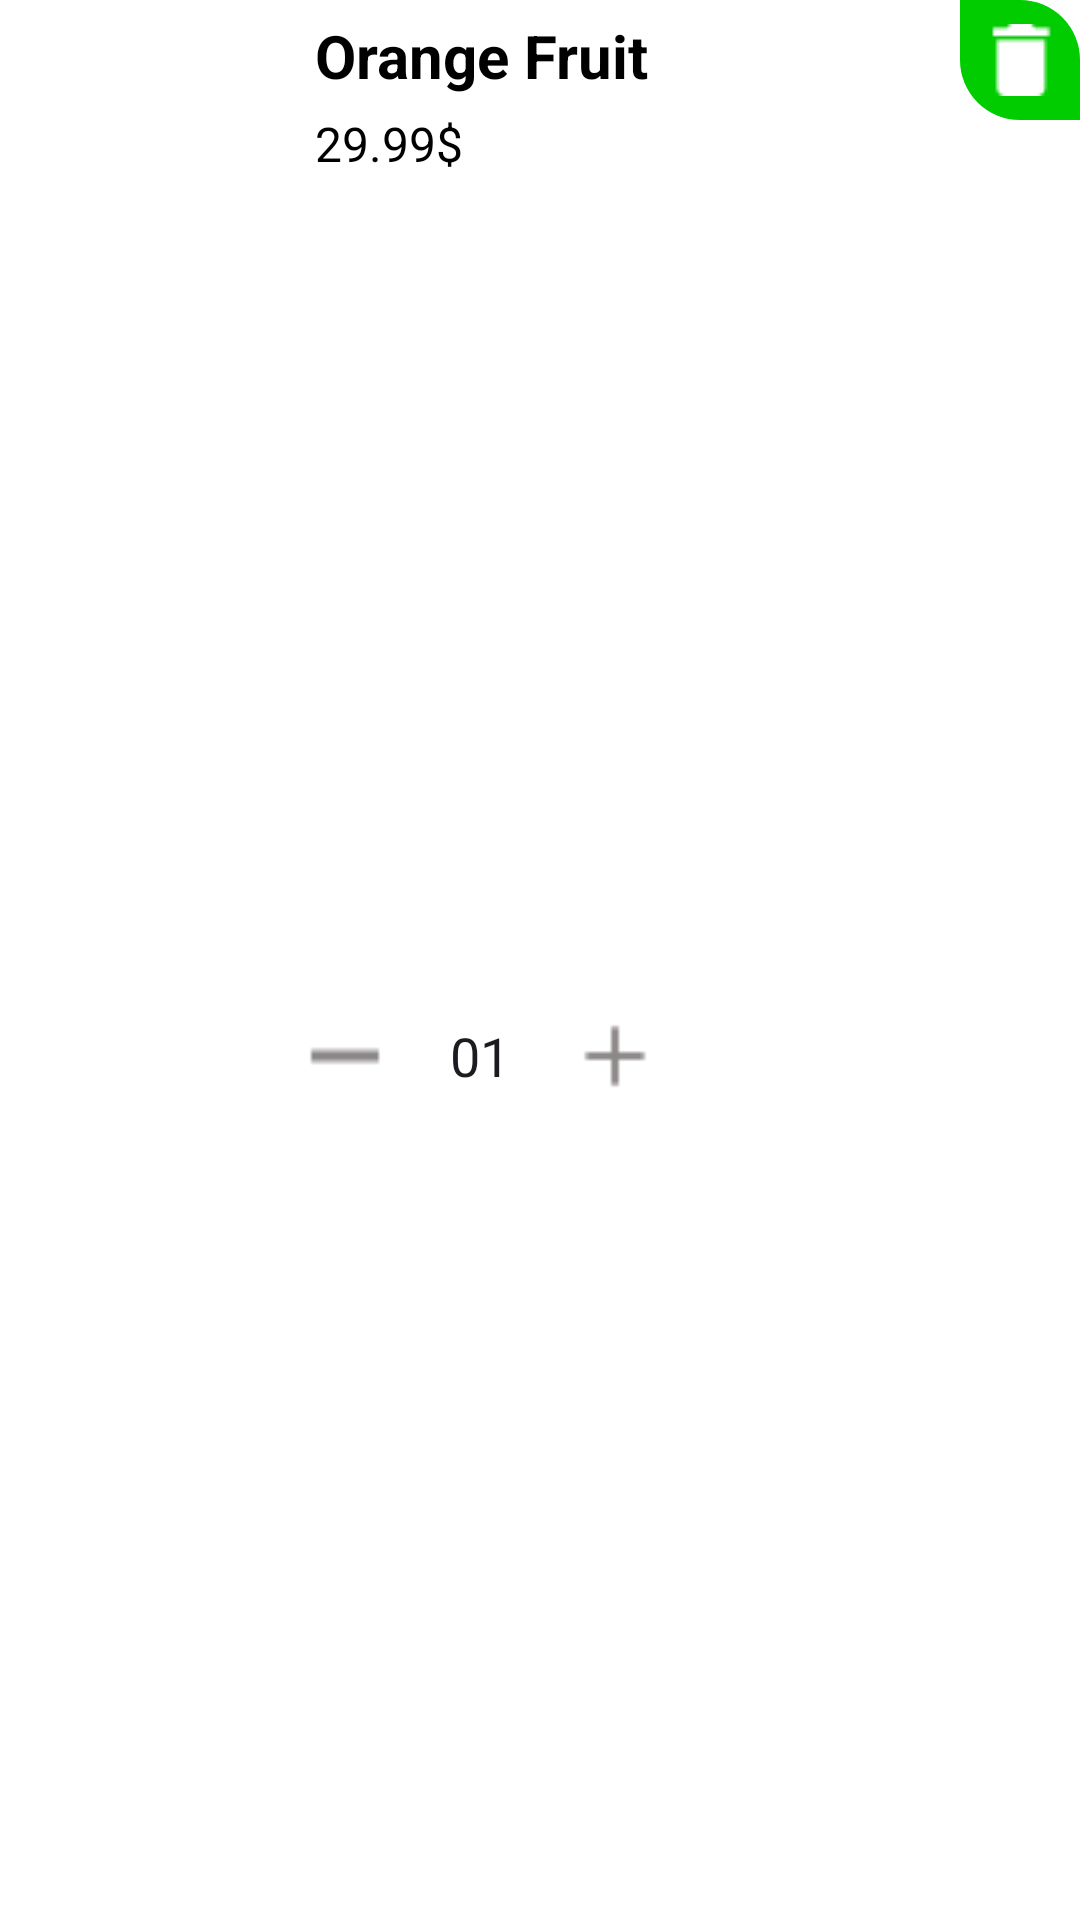

Screen size 1080 × 1920. Icon name, then its center in pixels as (x=x, y=y):
delete: (x=1020, y=60)
minus: (x=345, y=1056)
plus: (x=615, y=1056)
